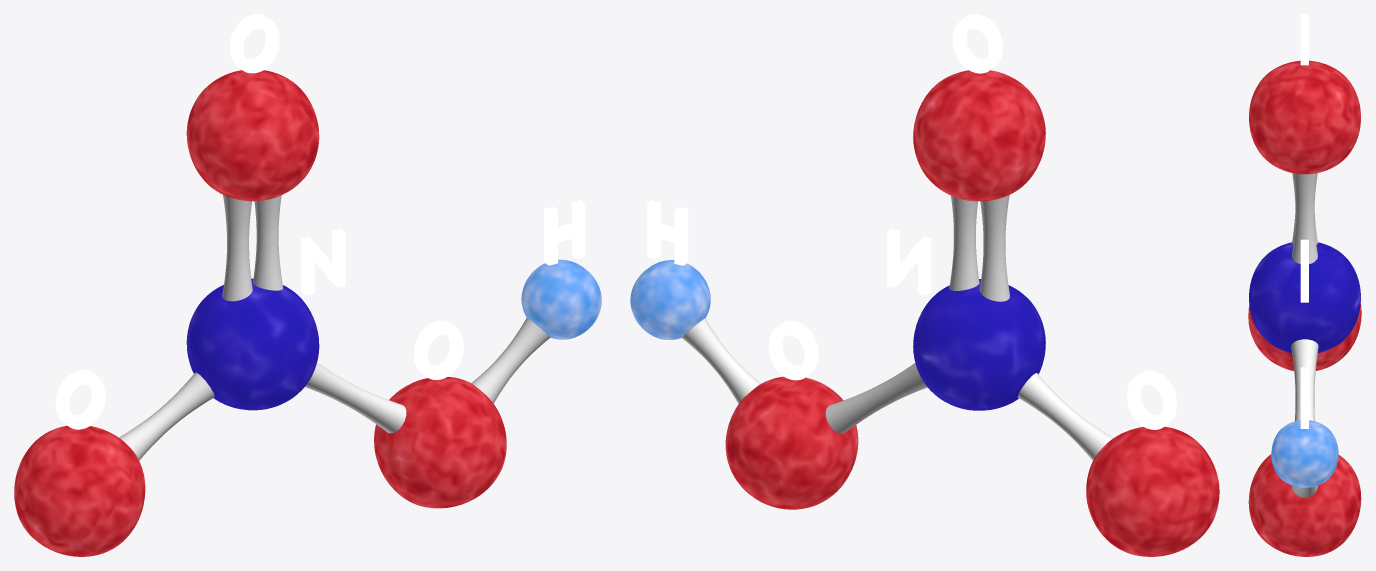
The model's file is HNO3.glb.
The picture shows the model from 3 angles, left to right: view 1: azimuth 30°, elevation 25°; view 2: azimuth 150°, elevation 25°; view 3: azimuth 270°, elevation 25°; orthographic projection. The views are drawn at different scales.
Parts seen in each view (by area): view 1: Text.002; view 2: Text.002; view 3: Text.002.
Boxes of the visible parts, bbox=[...] form: Text.002: bbox=[14, 14, 601, 556]; Text.002: bbox=[630, 14, 1219, 556]; Text.002: bbox=[1248, 14, 1361, 556].
Size of the model in its own units: 5.42 by 4.79 by 1.08.
5 materials, 3 textured.
